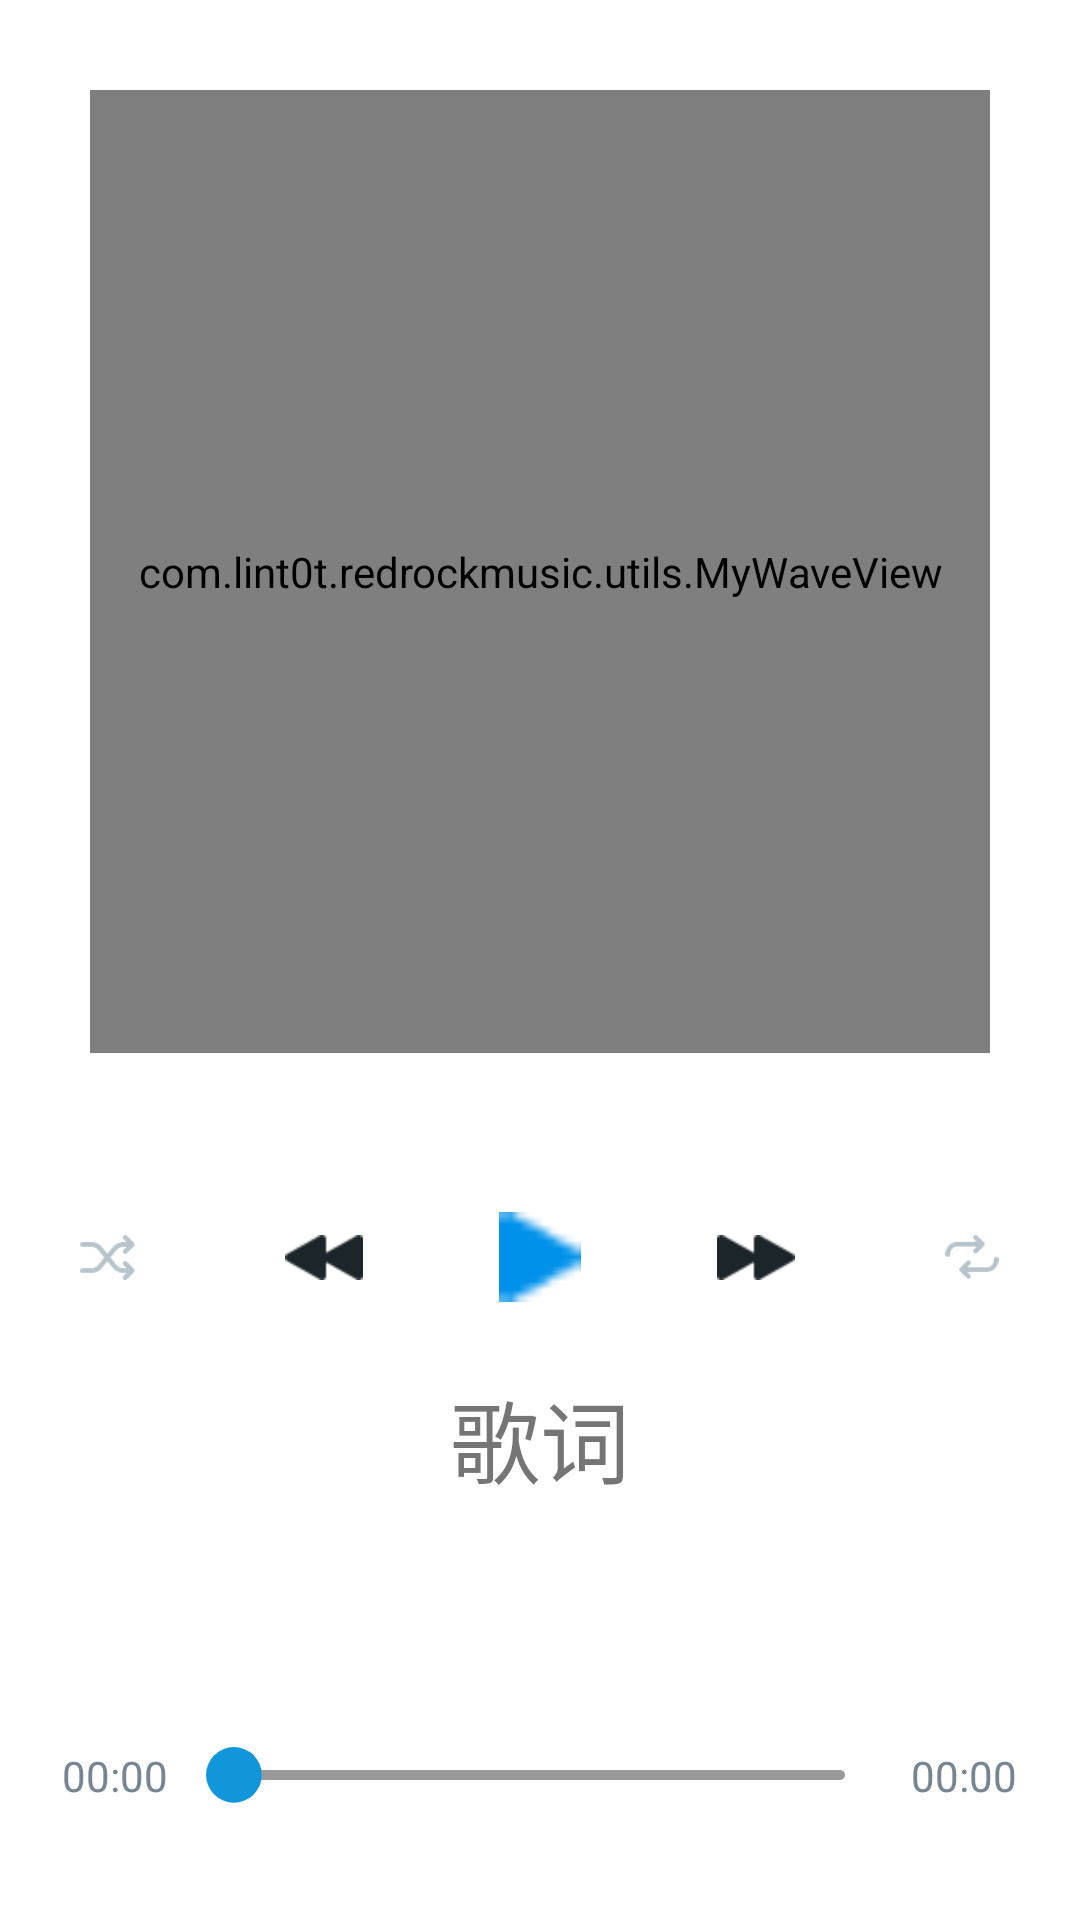

Named icons in this screenshot (1080×1920) and their centers, [x,y]:
playblue: [540,1257]
repeat: [972,1257]
rewindblack: [324,1257]
rewindblackright: [756,1257]
shaffle: [107,1257]
